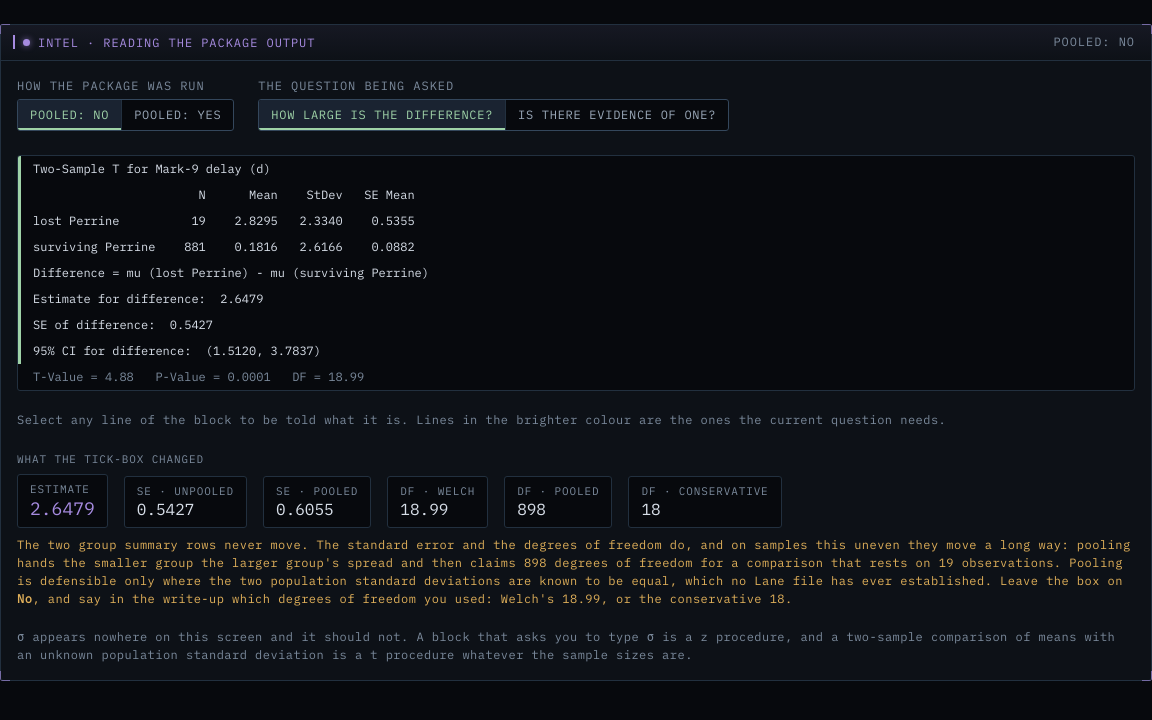
Test: <OutputReader> (act-7-05) › every line is a focusable control that explains itself
The width and height of the screenshot is (1152, 720).
Click the button "T-Value = 4.88 P-Value = 0.0001 DF = 18.99" at {"x": 199, "y": 376}, box [18,364,1134,390]
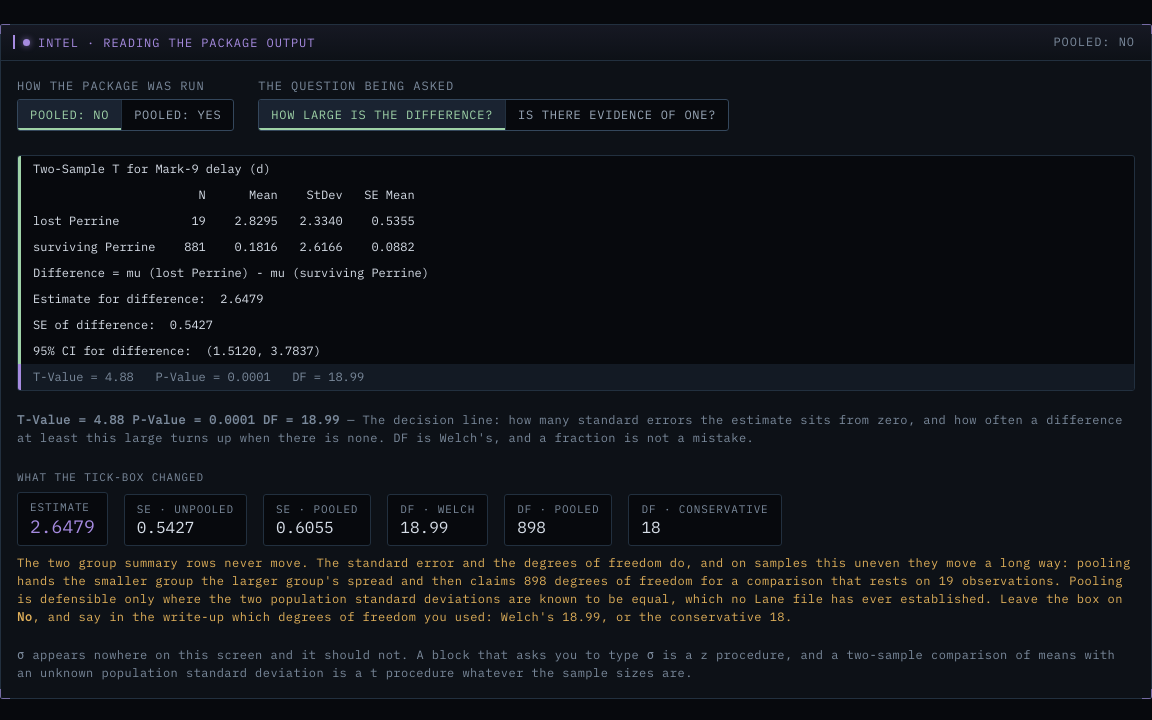
Check: the text "The decision line" is shown, box [17,412,1123,444]
